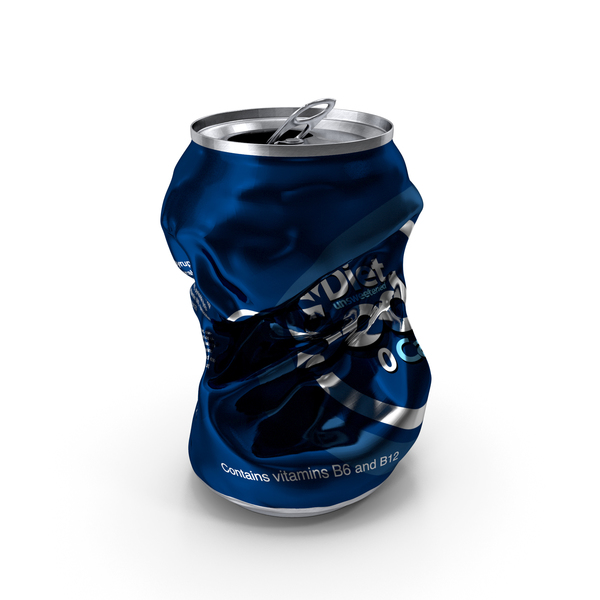can: (160, 97, 432, 521)
